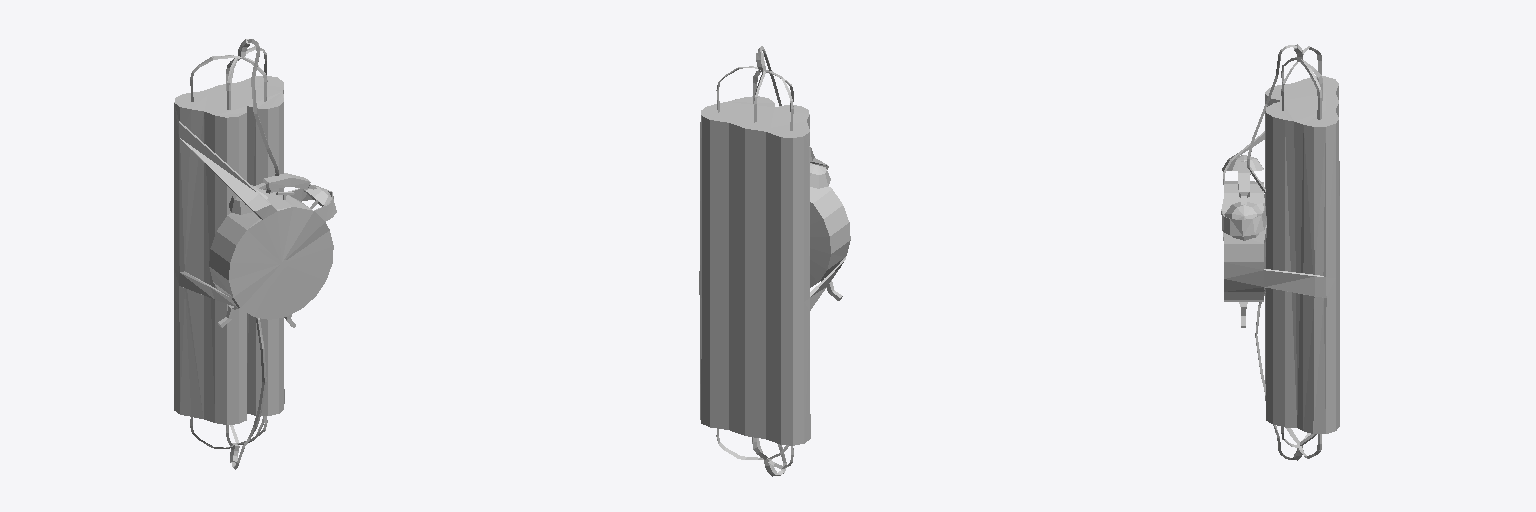
File: Bomb.obj
3 views of the same model, side by side, from view 1: azimuth 30°, elevation 25°; view 2: azimuth 150°, elevation 25°; view 3: azimuth 270°, elevation 25° (orthographic).
Visible parts, largest first — view 1: Bomb; view 2: Bomb; view 3: Bomb.
Boxes of the visible parts, box(x1,y1,x2,y2) form: Bomb: box(174, 39, 336, 469); Bomb: box(699, 46, 850, 476); Bomb: box(1221, 44, 1339, 460).
Bounding box in the file's own units: 0.2106 × 0.7097 × 0.1812.